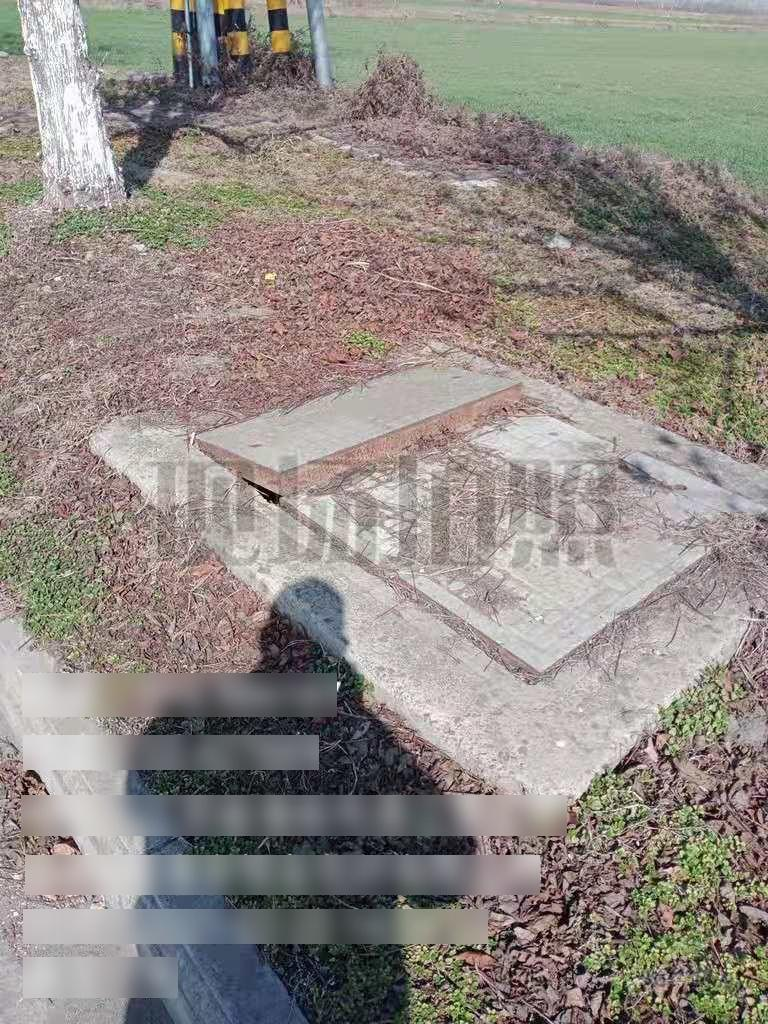wellcover: (209, 327, 768, 698)
